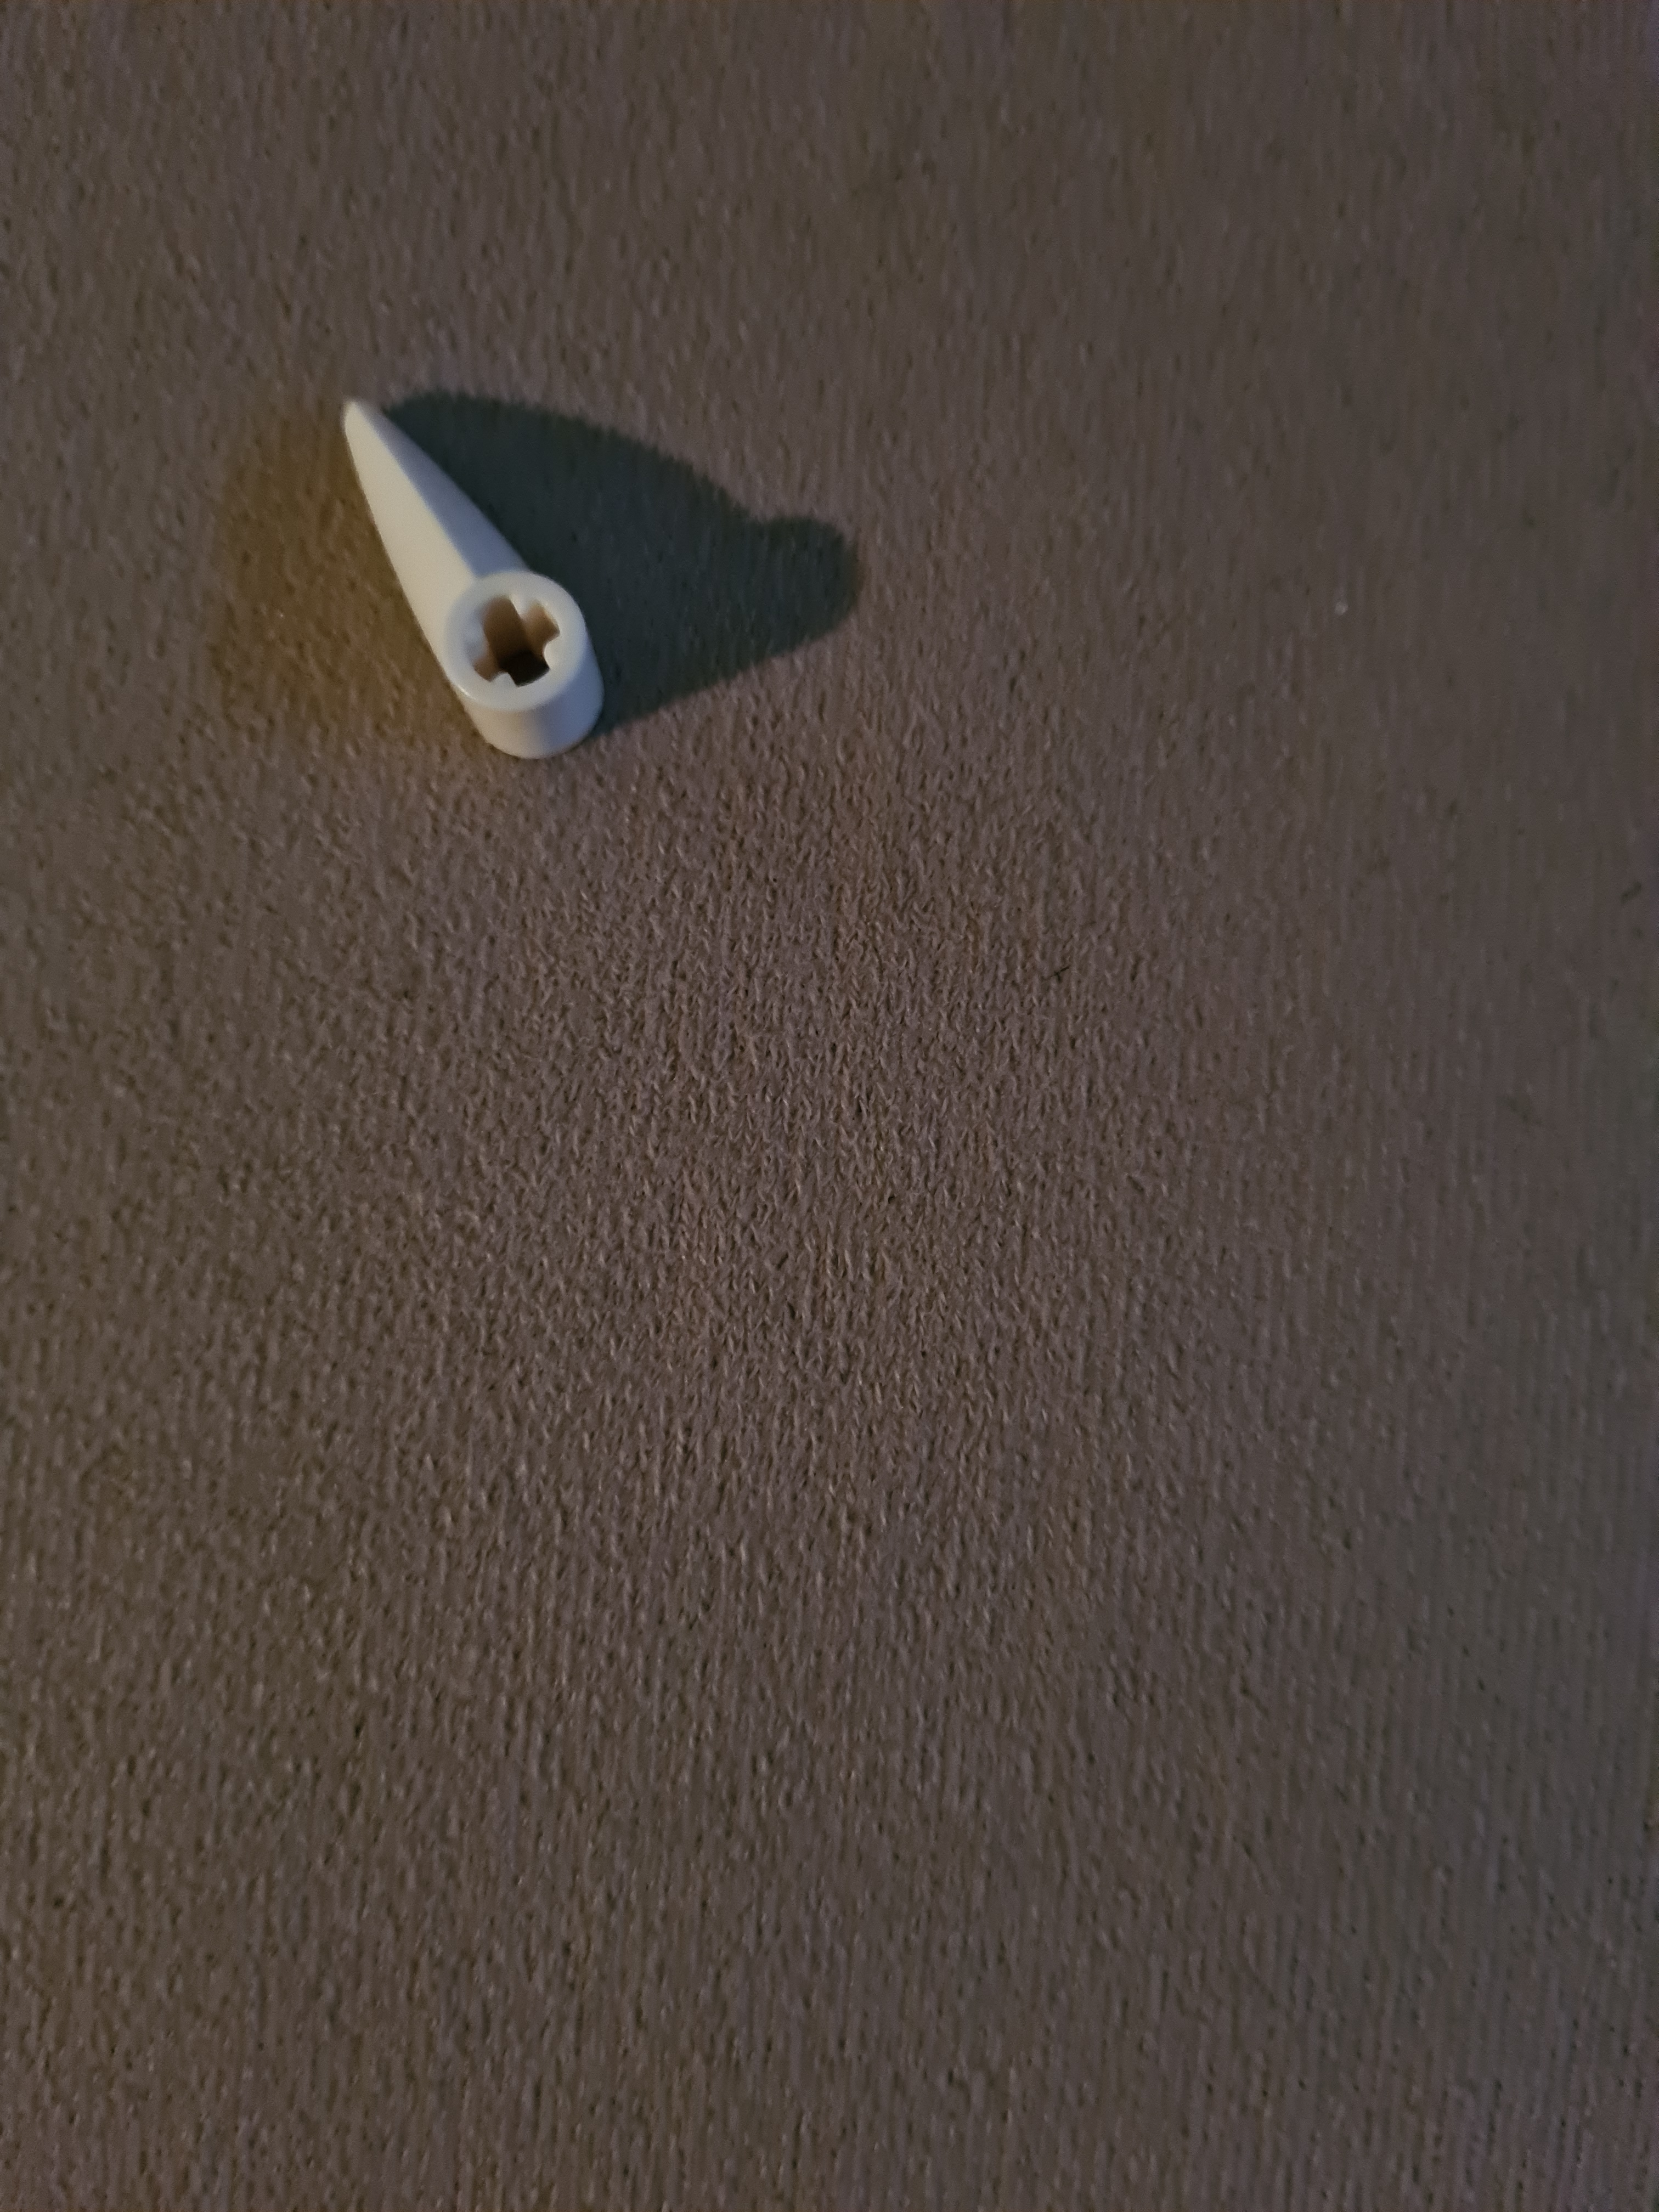Kappe: (310, 355, 645, 806)
